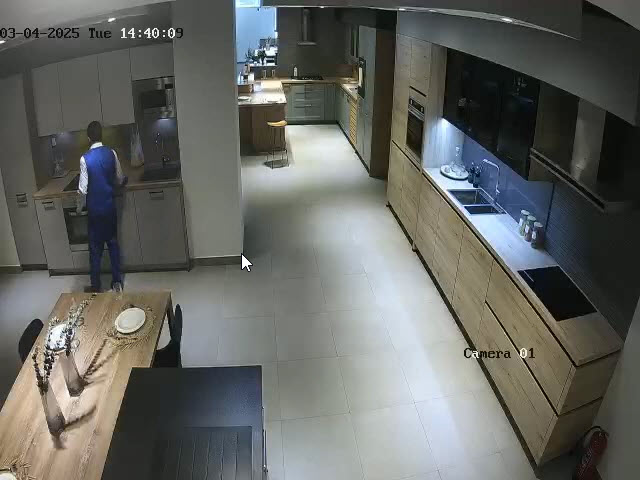employee: (77, 121, 127, 294)
